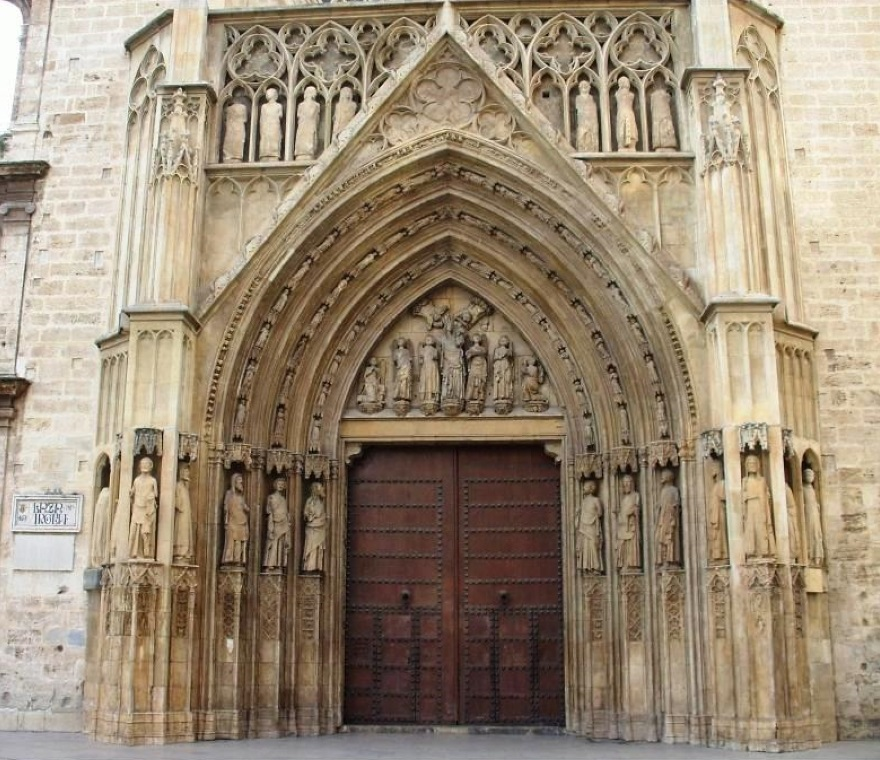arco-apuntado: (211, 125, 696, 432)
